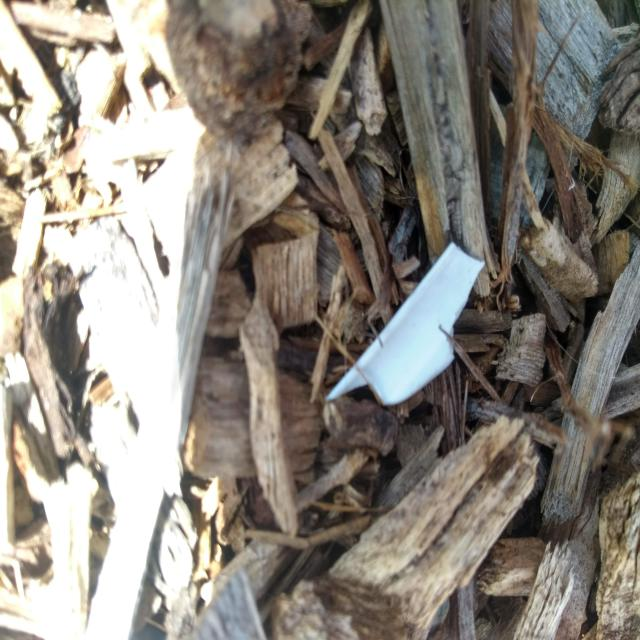litter: (329, 237, 487, 408)
